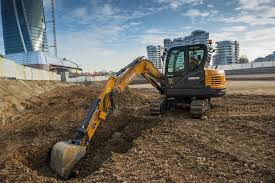excavator: (49, 44, 226, 179)
